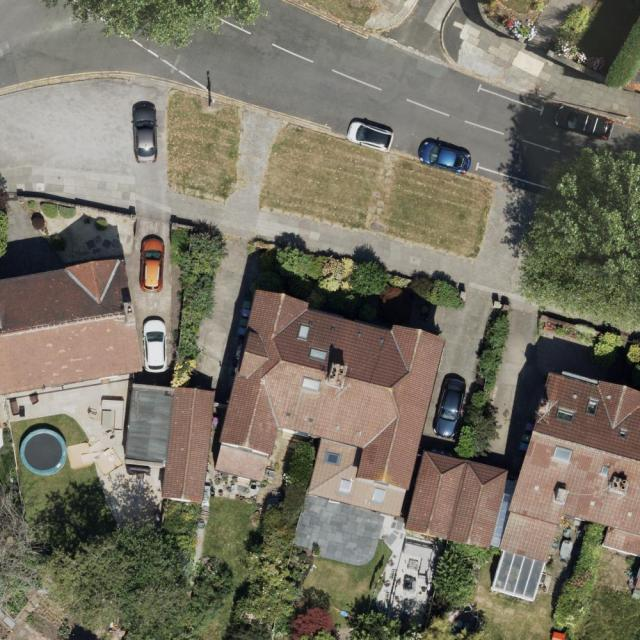roof: (213, 285, 447, 517), (492, 369, 640, 602), (0, 258, 145, 397), (125, 386, 218, 505), (404, 447, 507, 549)
skylight: (493, 550, 547, 602), (301, 376, 321, 395), (555, 406, 576, 424), (552, 446, 573, 463), (336, 477, 354, 496), (308, 348, 329, 361), (371, 486, 386, 504), (296, 325, 311, 341), (326, 451, 341, 466), (586, 399, 599, 416), (601, 464, 611, 476), (620, 429, 627, 440)
